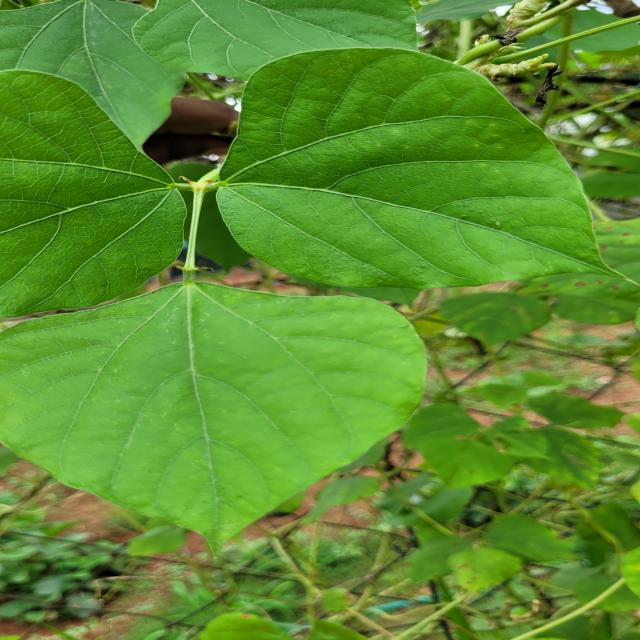Dolicos bean_healthy: (0, 280, 427, 544), (215, 47, 640, 286)
